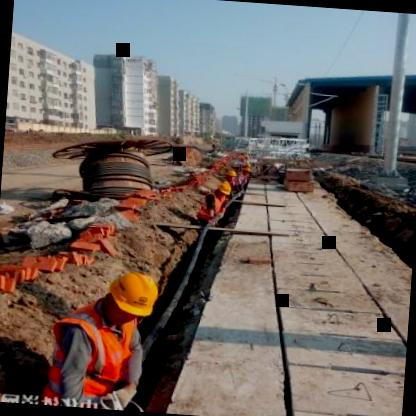helmet: (107, 266, 158, 328), (208, 181, 236, 200), (219, 166, 241, 184)
